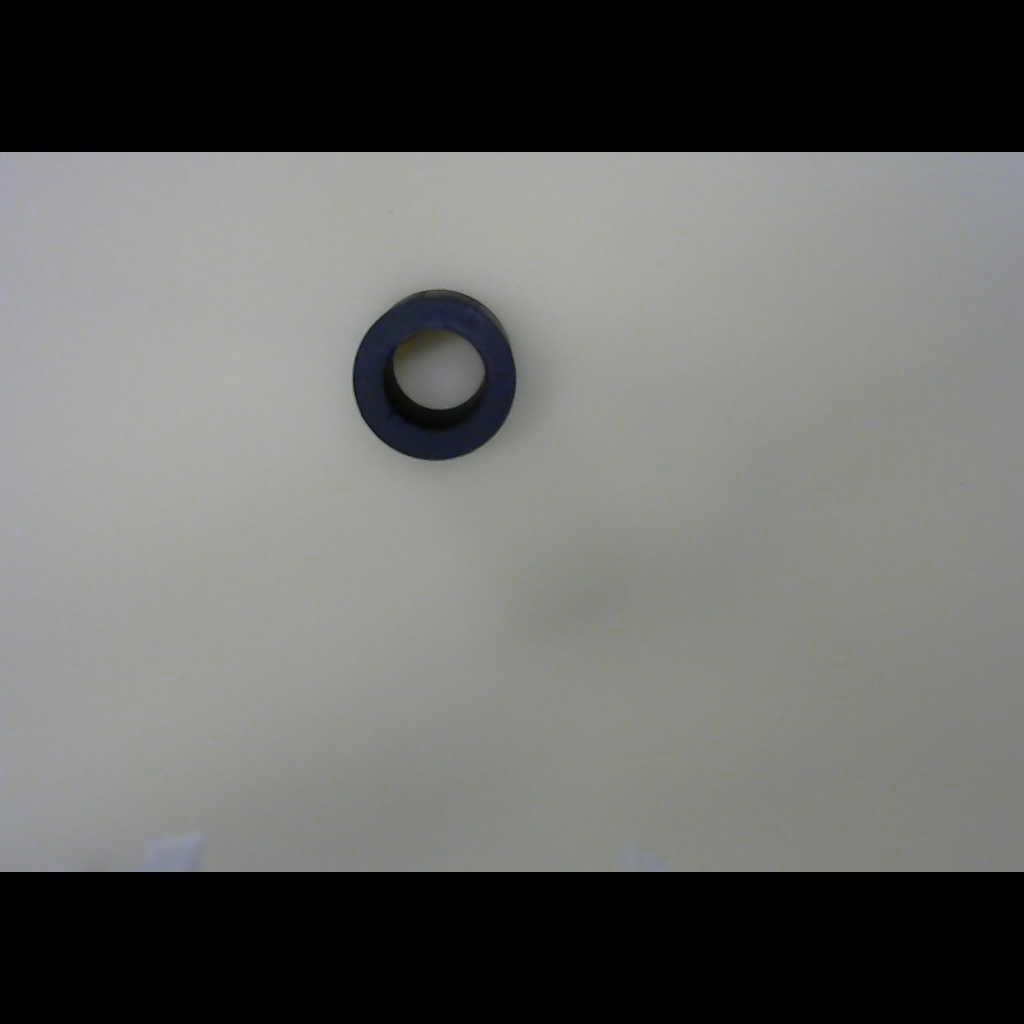ring: (349, 282, 524, 464)
